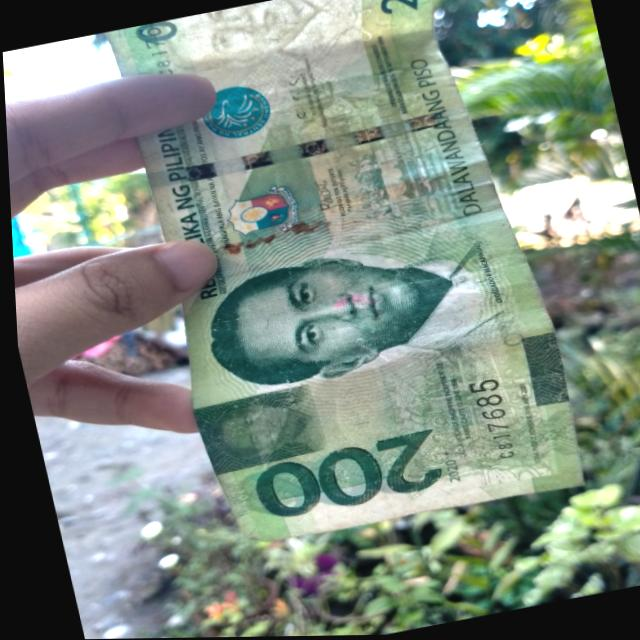concealed_value: (185, 383, 319, 475)
security_thread: (143, 107, 469, 188)
serial_number: (460, 377, 513, 470)
value: (235, 417, 444, 529)
watermark: (158, 0, 367, 90)
